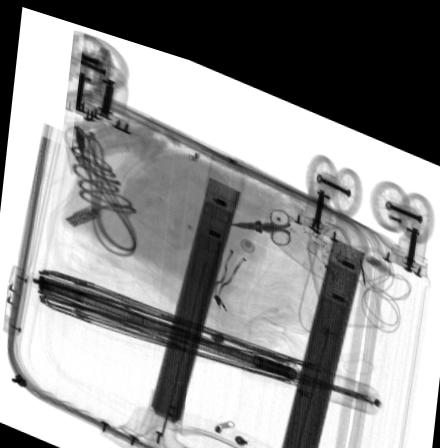Scissors: (226, 191, 291, 228)
